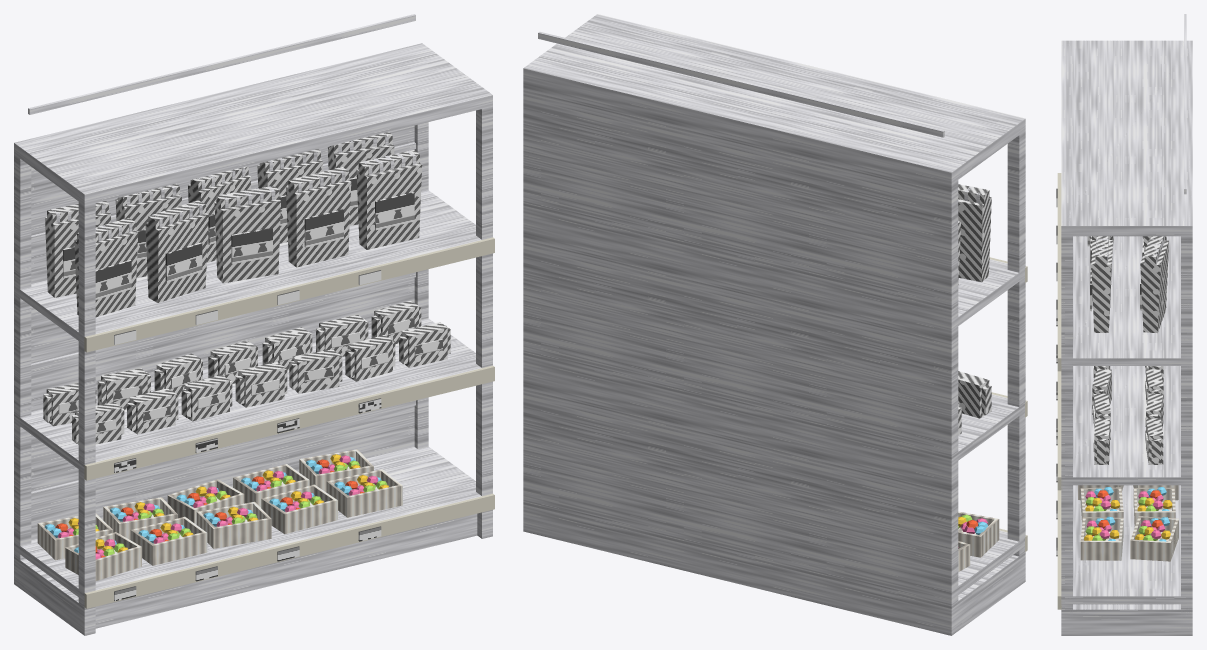
The picture shows the model from 3 angles, left to right: view 1: azimuth 30°, elevation 25°; view 2: azimuth 150°, elevation 25°; view 3: azimuth 270°, elevation 25°; orthographic projection. The views are drawn at different scales.
Parts seen in each view (by area): view 1: metallo_003, metallo_001, metallo_000, liscio_005, metallo_004, metallo_002, stampa_b_112, stampa_b_118, stampa_b_124, stampa_b_106, stampa_b_100, stampa_b_097 (+35 smaller); view 2: metallo_001, metallo_003, metallo_000, metallo_002, stampa_b_100, metallo_004, stampa_b_071, cartone_015; view 3: metallo_003, metallo_000, metallo_004, metallo_001, stampa_b_121, liscio_005, stampa_b_124, cartone_057, cartone_063, stampa_b_093, cartone_045, stampa_b_095 (+7 smaller).
Part boxes in pixels (left/top/right/bottom): metallo_003: left=14, top=44, right=492, bottom=601; metallo_001: left=14, top=43, right=420, bottom=585; metallo_000: left=14, top=43, right=492, bottom=635; liscio_005: left=84, top=237, right=494, bottom=608; metallo_004: left=17, top=513, right=477, bottom=631; metallo_002: left=28, top=14, right=415, bottom=498; stampa_b_112: left=214, top=185, right=280, bottom=283; stampa_b_118: left=286, top=167, right=351, bottom=267; stampa_b_124: left=356, top=150, right=422, bottom=249; stampa_b_106: left=145, top=200, right=208, bottom=302; stampa_b_100: left=74, top=218, right=138, bottom=317; stampa_b_097: left=45, top=201, right=110, bottom=297; metallo_001: left=523, top=68, right=954, bottom=635; metallo_003: left=523, top=14, right=1024, bottom=599; metallo_000: left=523, top=14, right=1025, bottom=635; metallo_002: left=538, top=31, right=944, bottom=137; stampa_b_100: left=958, top=184, right=991, bottom=282; metallo_004: left=955, top=555, right=1019, bottom=630; stampa_b_071: left=958, top=371, right=991, bottom=418; cartone_015: left=958, top=511, right=999, bottom=557; metallo_003: left=1061, top=40, right=1192, bottom=604; metallo_000: left=1061, top=40, right=1192, bottom=635; metallo_004: left=1070, top=604, right=1186, bottom=635; metallo_001: left=1186, top=41, right=1192, bottom=635; stampa_b_121: left=1140, top=236, right=1168, bottom=333; liscio_005: left=1057, top=173, right=1062, bottom=609; stampa_b_124: left=1091, top=236, right=1112, bottom=332; cartone_057: left=1130, top=516, right=1178, bottom=561; cartone_063: left=1080, top=517, right=1123, bottom=560; stampa_b_093: left=1146, top=418, right=1163, bottom=464; cartone_045: left=1133, top=487, right=1175, bottom=526; stampa_b_095: left=1094, top=418, right=1109, bottom=464.
Size of the model in its own units: 1.5 by 1.67 by 0.467.
20 materials, 14 textured.
